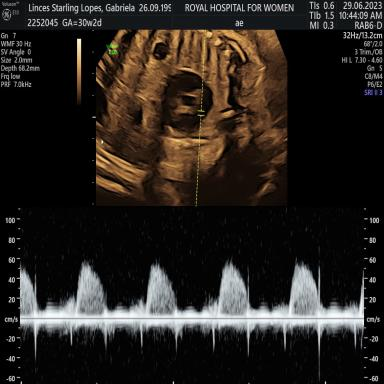Ultrasound-Waves: (25, 213, 361, 384)
